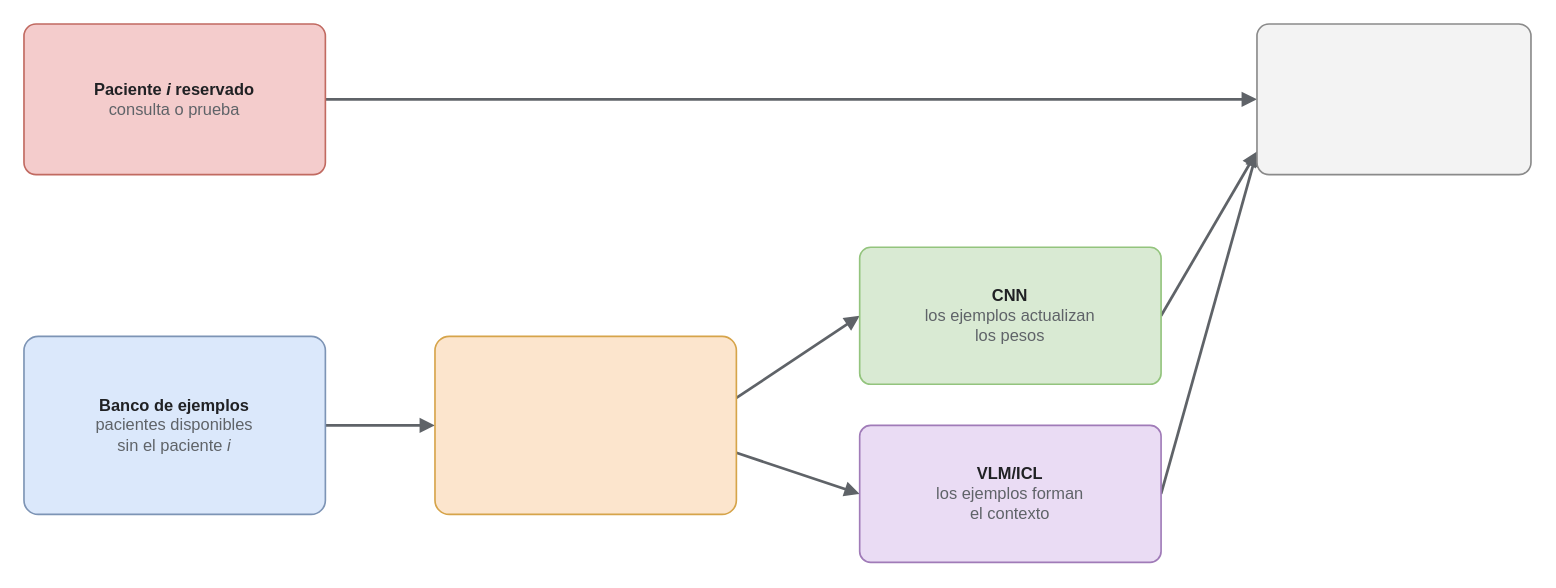
The diagram is 1556 pixels wide and 588 high, and some of its shapes have lost their labels. Each missing label, with the centre of its shape:
"Evaluación predicción sobre el paciente i" goes at (x=1393, y=98).
"Selección de K ejemplos K = 2, 4, 8, 16, 32 tres semillas" goes at (x=585, y=425).
